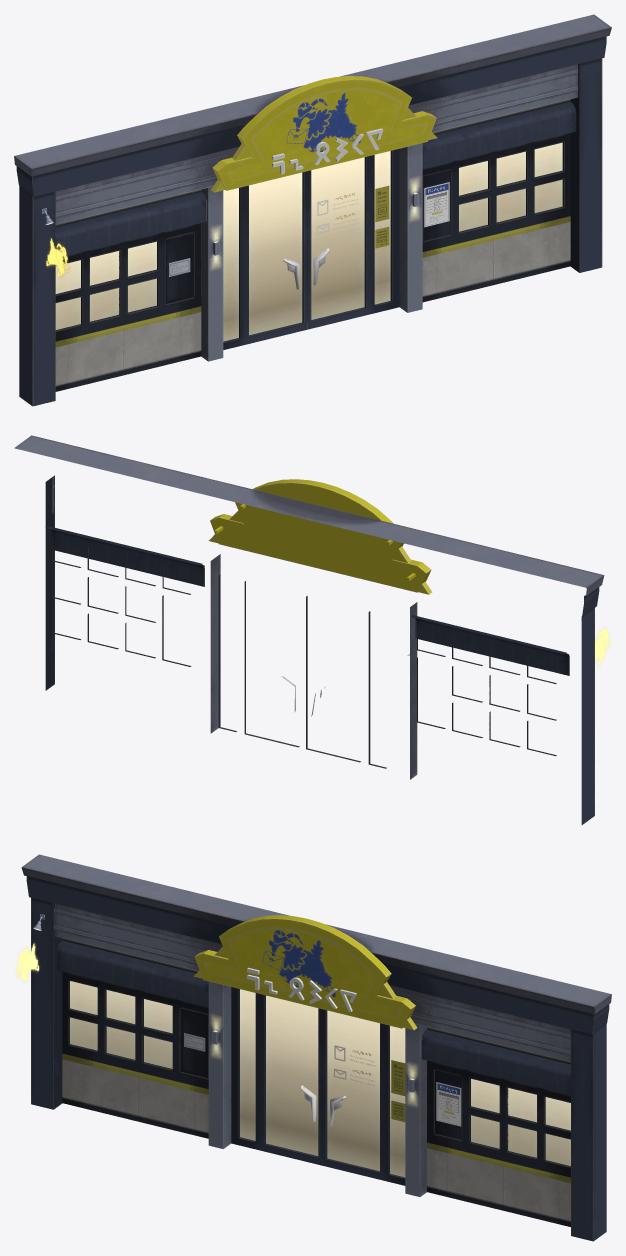
The model's file is t1_b_post_office.glb.
The picture shows the model from 3 angles, top to bottom: view 1: azimuth 30°, elevation 25°; view 2: azimuth 150°, elevation 25°; view 3: azimuth 330°, elevation 25°; orthographic projection.
Parts seen in each view (by area): view 1: nomerge_postoffice18, um_t1_b_post_office_model_t1_b_post_office_modelShape; view 2: nomerge_postoffice18; view 3: nomerge_postoffice18, um_t1_b_post_office_model_t1_b_post_office_modelShape.
Boxes of the visible parts, box(x1,y1,x2,y2) form: nomerge_postoffice18: box(14, 14, 611, 406); um_t1_b_post_office_model_t1_b_post_office_modelShape: box(42, 193, 358, 277); nomerge_postoffice18: box(14, 435, 604, 824); nomerge_postoffice18: box(21, 854, 611, 1241); um_t1_b_post_office_model_t1_b_post_office_modelShape: box(16, 914, 374, 1086).
Size of the model in its own units: 10.96 by 4.71 by 1.36.
Materials: 2 (2 with a texture image).
